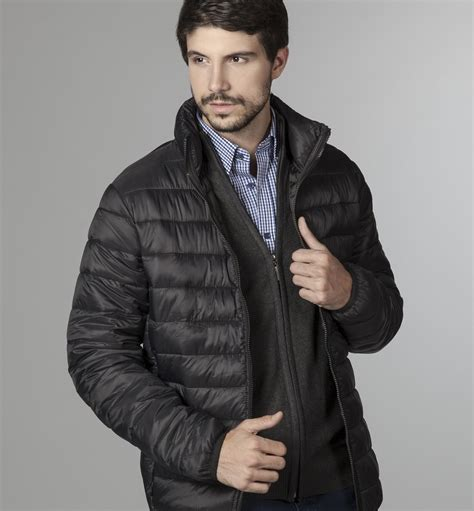nylon: (68, 98, 405, 511)
